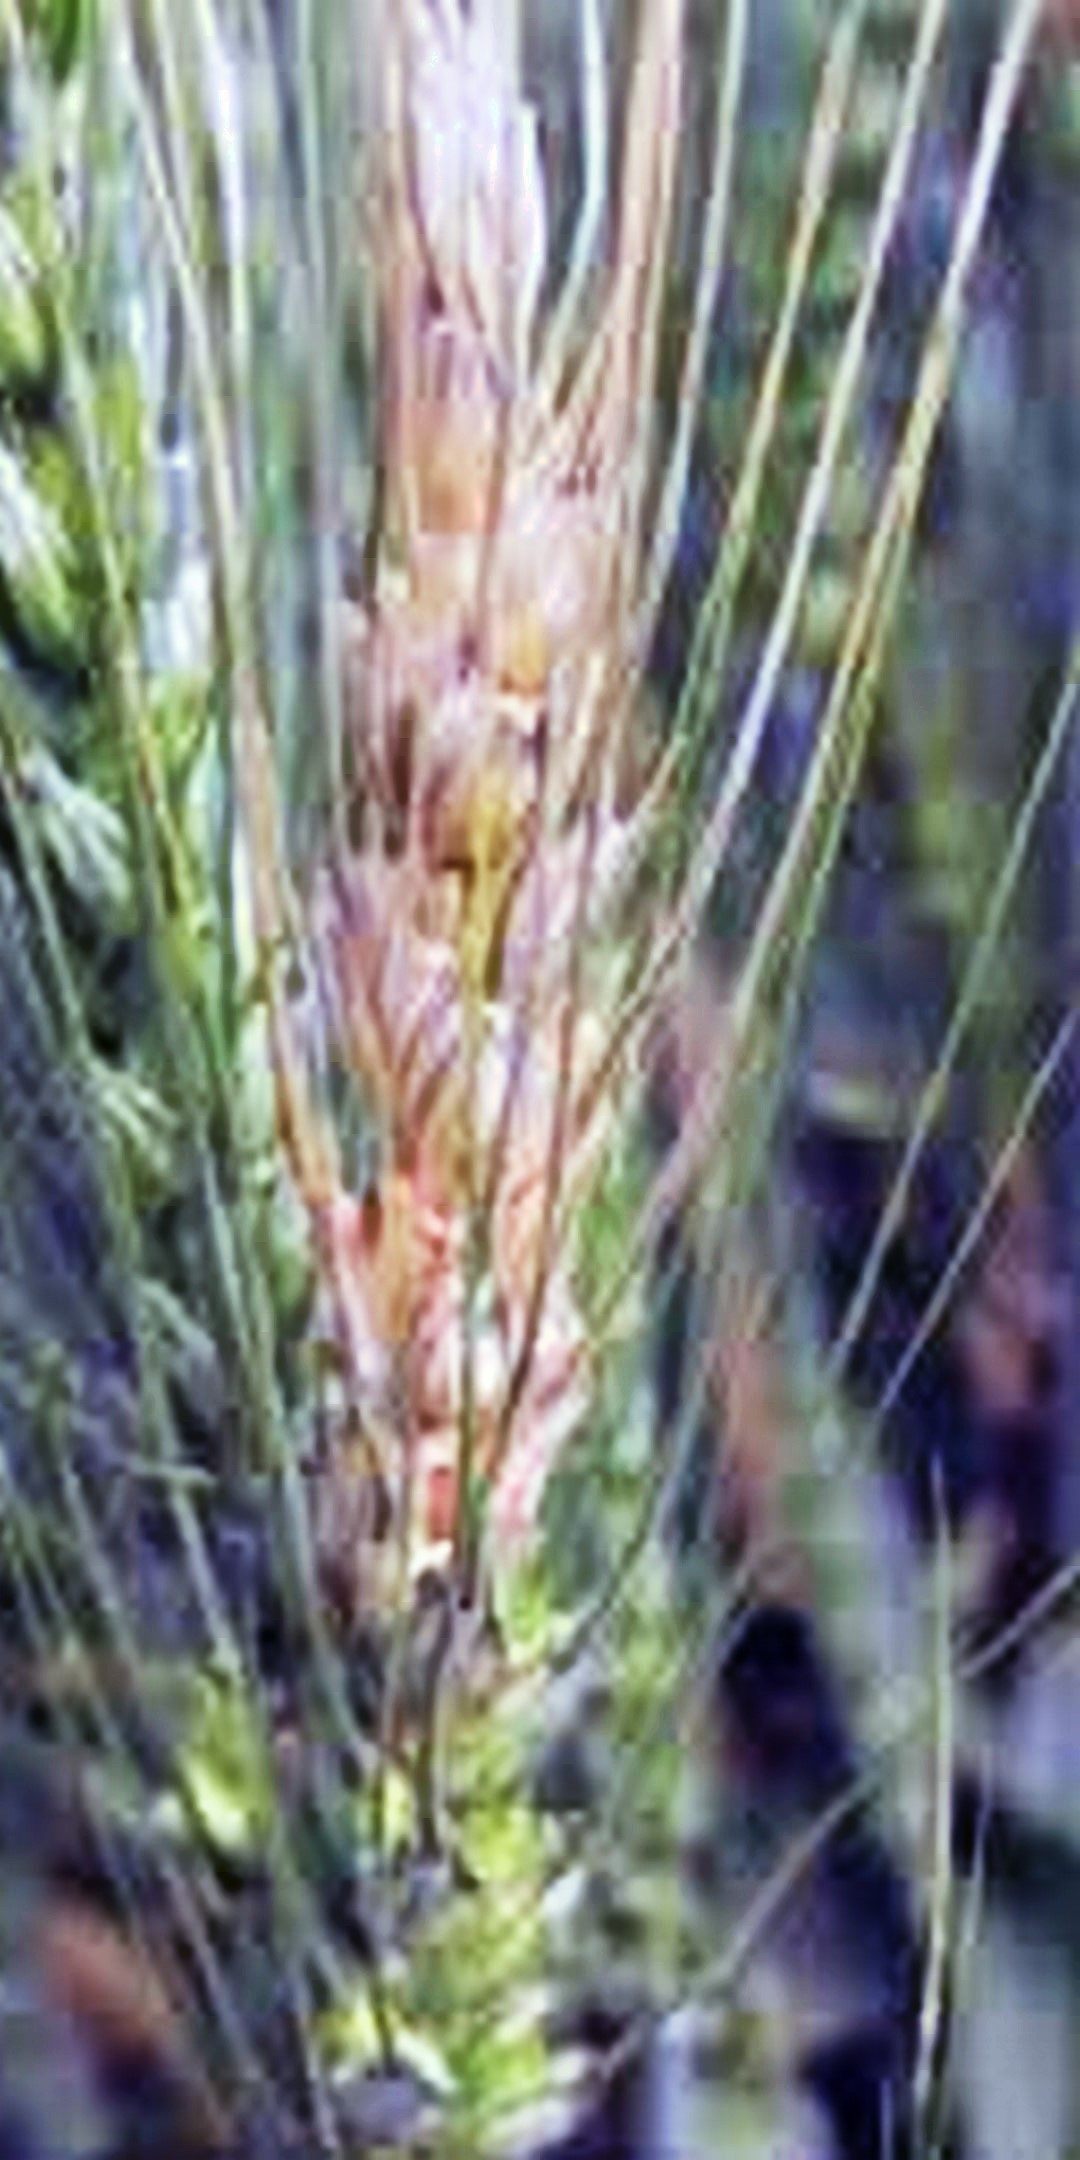Wheat scab: (318, 260, 678, 2148)
